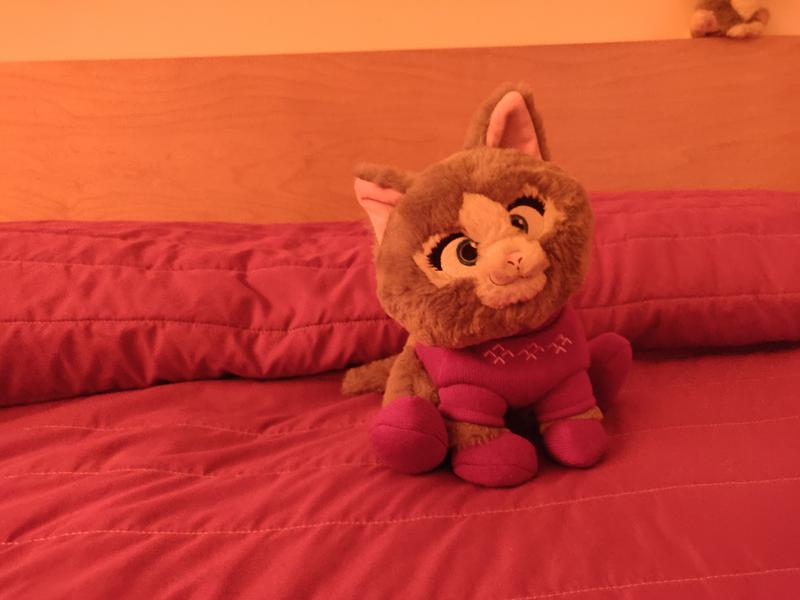kitten: (311, 58, 686, 499)
